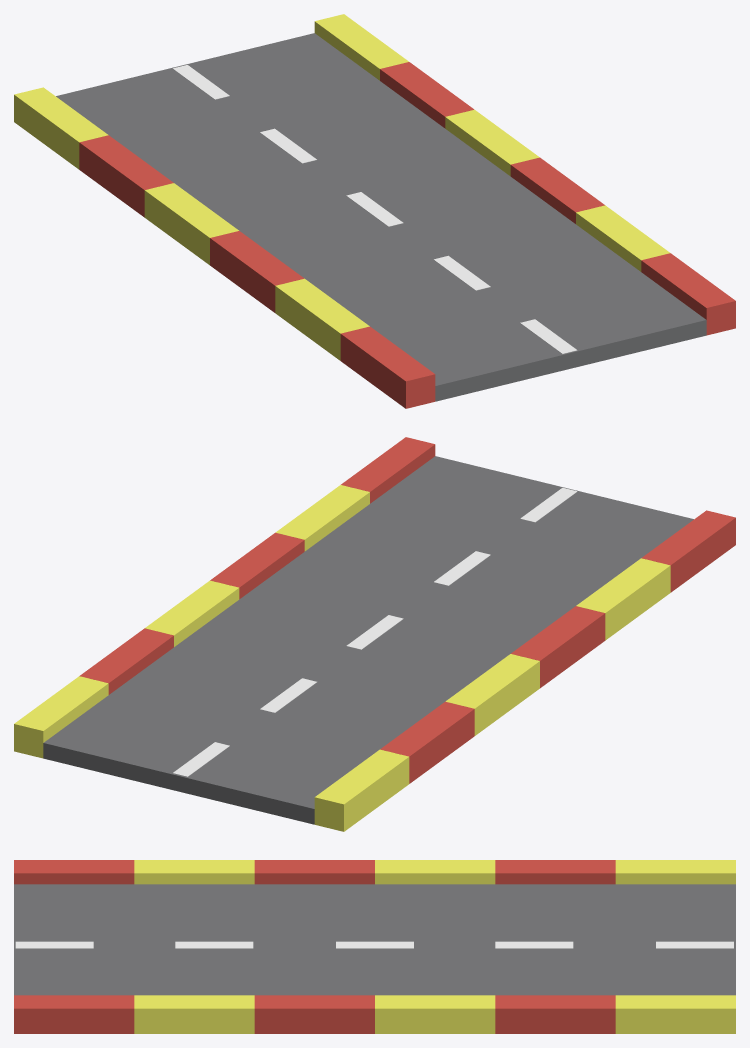
File: RoadV4.fbx
3 renders of one model, top to bottom at view 1: azimuth 30°, elevation 25°; view 2: azimuth 150°, elevation 25°; view 3: azimuth 270°, elevation 25°, orthographic. The views are drawn at different scales.
Visible parts, largest first — view 1: Road, Road.sides.darker, Road.sides.lighter.002, Road.sides.lighter.001, Road.sides.darker.001, Road.sides.lighter, Road.sides.darker.002, Road.lines; view 2: Road, Road.sides.lighter.002, Road.sides.darker, Road.sides.darker.001, Road.sides.lighter.001, Road.sides.lighter, Road.sides.darker.002, Road.lines; view 3: Road, Road.sides.lighter, Road.sides.darker.002, Road.sides.darker, Road.sides.lighter.001, Road.sides.darker.001, Road.sides.lighter.002, Road.lines.
Boxes of the visible parts, left/top/right/bottom form: Road: left=56, top=33, right=706, bottom=401; Road.sides.darker: left=340, top=253, right=735, bottom=408; Road.sides.lighter.002: left=14, top=14, right=408, bottom=169; Road.sides.lighter.001: left=144, top=109, right=539, bottom=265; Road.sides.darker.001: left=210, top=157, right=604, bottom=312; Road.sides.lighter: left=275, top=205, right=670, bottom=360; Road.sides.darker.002: left=79, top=62, right=473, bottom=217; Road.lines: left=172, top=65, right=577, bottom=353; Road: left=43, top=456, right=693, bottom=824; Road.sides.lighter.002: left=14, top=676, right=409, bottom=831; Road.sides.darker: left=341, top=437, right=735, bottom=592; Road.sides.darker.001: left=210, top=532, right=605, bottom=688; Road.sides.lighter.001: left=145, top=580, right=539, bottom=735; Road.sides.lighter: left=276, top=485, right=670, bottom=640; Road.sides.darker.002: left=79, top=628, right=474, bottom=783; Road.lines: left=173, top=487, right=577, bottom=776; Road: left=14, top=884, right=735, bottom=995; Road.sides.lighter: left=134, top=860, right=254, bottom=1033; Road.sides.darker.002: left=495, top=860, right=615, bottom=1033; Road.sides.darker: left=14, top=860, right=134, bottom=1033; Road.sides.lighter.001: left=375, top=860, right=495, bottom=1033; Road.sides.darker.001: left=254, top=860, right=374, bottom=1033; Road.sides.lighter.002: left=615, top=860, right=735, bottom=1033; Road.lines: left=15, top=941, right=733, bottom=948.
Bounding box in the file's own units: 438 × 34.85 × 900.
